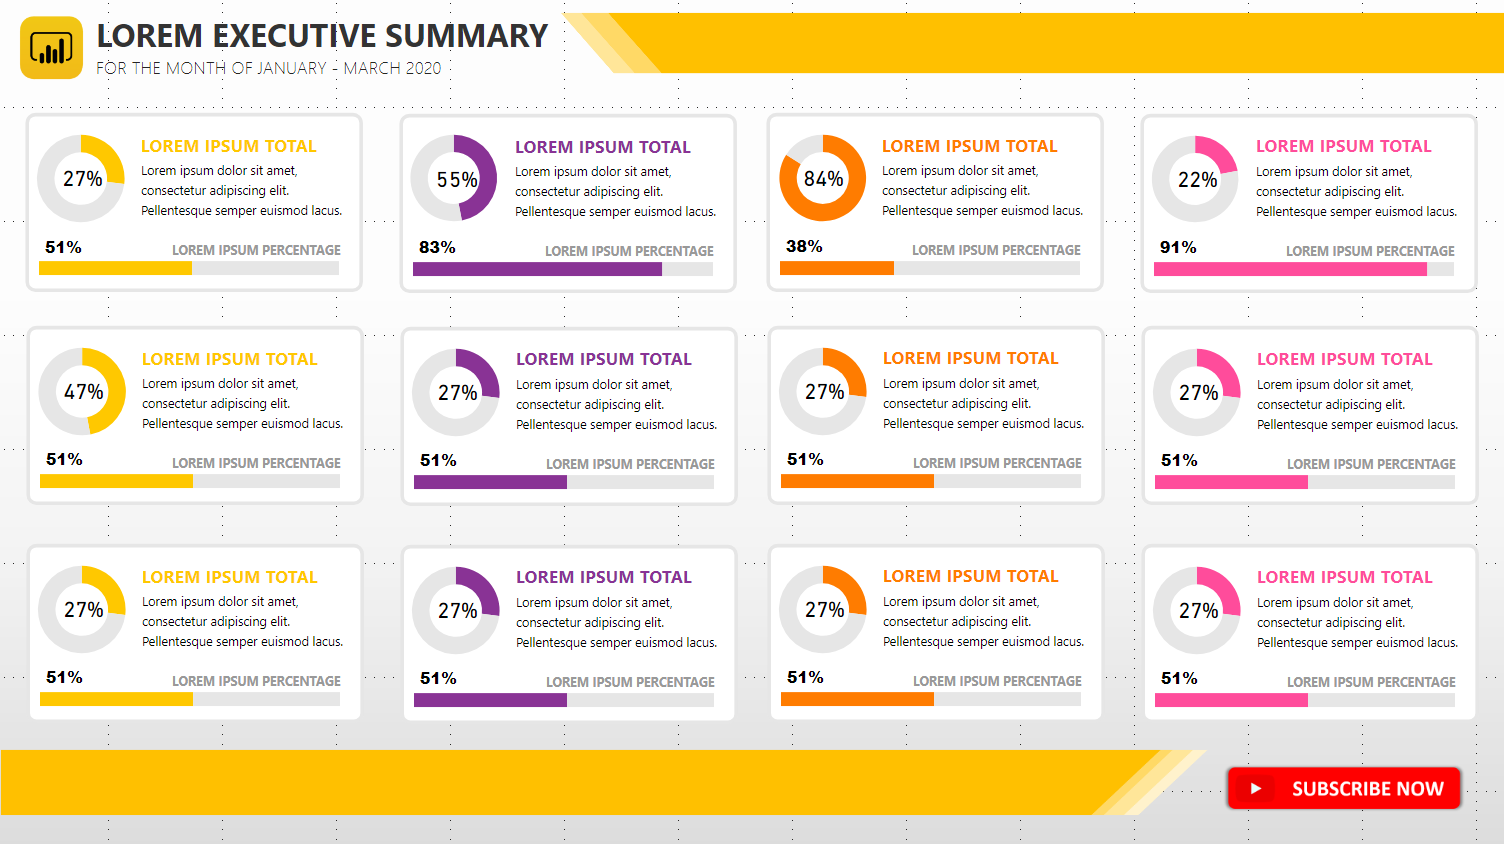

The dashboard page shown, as its layout file describes it:
{"tool":"powerbi","page":{"name":"Executive Summary","canvas":[1280,720],"ordinal":0},"visuals":[{"type":"basicShape","box":[36.1,135.2,317.9,182.7],"z":0},{"type":"image","box":[505.8,29.9,774.2,68.1],"z":1000},{"type":"image","box":[0,629.7,1049.8,67.1],"z":2000},{"type":"image","box":[7.2,19.6,88.8,87.7],"z":3000},{"type":"textbox","box":[93.9,29.9,402.6,49.5],"z":4000},{"type":"textbox","box":[96,64,402.6,34.1],"z":5000},{"type":"donutChart","fields":{"Y":["Sum(RAWDATA.PartOne)","Sum(RAWDATA.PartTwo)"]},"box":[43.4,141.4,114.6,118.7],"z":6000},{"type":"card","fields":{"Values":["Avg(RAWDATA.PartOne)"]},"box":[70.2,175.5,64,51.6],"z":7000},{"type":"textbox","box":[152.8,160,154.8,28.9],"z":8000},{"type":"textbox","box":[151.7,180.6,187.9,70.2],"z":9000},{"type":"barChart","fields":{"Y":["Sum(RAWDATA.PartOne)","Sum(RAWDATA.PartTwo)"]},"box":[58.8,257,272.5,60.9],"z":10000},{"type":"card","fields":{"Values":["Avg(RAWDATA.PartOne)"]},"box":[58.8,242.6,55.7,45.4],"z":11000},{"type":"slicer","fields":{"Values":["RAWDATA.Month"]},"box":[1101.4,41.3,165.2,45.4],"z":12000},{"type":"textbox","box":[148.6,250.8,179.6,28.9],"z":12001},{"type":"basicShape","box":[36.1,367.5,317.9,182.7],"z":12002},{"type":"basicShape","box":[468.6,135.2,317.9,182.7],"z":12003},{"type":"basicShape","box":[468.6,367.5,317.9,182.7],"z":12004},{"type":"basicShape","box":[892.9,135.2,317.9,182.7],"z":12005},{"type":"basicShape","box":[892.9,367.5,317.9,182.7],"z":12006},{"type":"donutChart","fields":{"Y":["Sum(RAWDATA.PartOne)","Sum(RAWDATA.PartTwo)"]},"box":[44.4,374.7,114.6,118.7],"z":12007},{"type":"card","fields":{"Values":["Avg(RAWDATA.PartOne)"]},"box":[70.2,408.8,64,51.6],"z":12008},{"type":"textbox","box":[152.8,394.3,154.8,28.9],"z":12009},{"type":"textbox","box":[152.8,408.8,187.9,70.2],"z":12010},{"type":"textbox","box":[150.7,489.3,179.6,28.9],"z":12011},{"type":"card","fields":{"Values":["Avg(RAWDATA.PartOne)"]},"box":[51.6,479,55.7,45.4],"z":12012},{"type":"barChart","fields":{"Y":["Sum(RAWDATA.PartOne)","Sum(RAWDATA.PartTwo)"]},"box":[55.7,493.4,272.5,60.9],"z":12013},{"type":"donutChart","fields":{"Y":["Sum(RAWDATA.PartOne)","Sum(RAWDATA.PartTwo)"]},"box":[476.9,141.4,114.6,118.7],"z":12014},{"type":"donutChart","fields":{"Y":["Sum(RAWDATA.PartOne)","Sum(RAWDATA.PartTwo)"]},"box":[901.2,141.4,114.6,118.7],"z":12015},{"type":"donutChart","fields":{"Y":["Sum(RAWDATA.PartOne)","Sum(RAWDATA.PartTwo)"]},"box":[476.9,374.7,114.6,118.7],"z":12016},{"type":"donutChart","fields":{"Y":["Sum(RAWDATA.PartOne)","Sum(RAWDATA.PartTwo)"]},"box":[901.2,374.7,114.6,118.7],"z":12017},{"type":"textbox","box":[591.5,151.7,154.8,28.9],"z":12018},{"type":"textbox","box":[1015.7,151.7,154.8,28.9],"z":12019},{"type":"textbox","box":[1015.7,394.3,154.8,28.9],"z":12020},{"type":"textbox","box":[591.5,387.1,154.8,28.9],"z":12021},{"type":"textbox","box":[591.5,175.5,187.9,70.2],"z":12022},{"type":"textbox","box":[1015.7,175.5,187.9,70.2],"z":12023},{"type":"textbox","box":[1015.7,416,187.9,70.2],"z":12024},{"type":"textbox","box":[591.5,408.8,187.9,70.2],"z":12025},{"type":"textbox","box":[589.4,253.9,179.6,28.9],"z":12026},{"type":"textbox","box":[1004.4,259.1,179.6,28.9],"z":12027},{"type":"textbox","box":[1012.6,492.4,179.6,28.9],"z":12028},{"type":"textbox","box":[589.4,490.3,179.6,28.9],"z":12029},{"type":"card","fields":{"Values":["Avg(RAWDATA.PartOne)"]},"box":[491.4,245.7,55.7,45.4],"z":12030},{"type":"card","fields":{"Values":["Avg(RAWDATA.PartOne)"]},"box":[909.4,248.8,55.7,45.4],"z":12031},{"type":"card","fields":{"Values":["Avg(RAWDATA.PartOne)"]},"box":[911.5,482.1,55.7,45.4],"z":12032},{"type":"card","fields":{"Values":["Avg(RAWDATA.PartOne)"]},"box":[479,482.1,55.7,45.4],"z":12033},{"type":"barChart","fields":{"Y":["Sum(RAWDATA.PartOne)","Sum(RAWDATA.PartTwo)"]},"box":[489.3,493.4,272.5,60.9],"z":12034},{"type":"barChart","fields":{"Y":["Sum(RAWDATA.PartOne)","Sum(RAWDATA.PartTwo)"]},"box":[494.5,258.1,272.5,60.9],"z":12035},{"type":"barChart","fields":{"Y":["Sum(RAWDATA.PartOne)","Sum(RAWDATA.PartTwo)"]},"box":[911.5,260.1,272.5,60.9],"z":12036},{"type":"barChart","fields":{"Y":["Sum(RAWDATA.PartOne)","Sum(RAWDATA.PartTwo)"]},"box":[920.8,493.4,272.5,60.9],"z":12037},{"type":"card","fields":{"Values":["Avg(RAWDATA.PartOne)"]},"box":[502.7,174.5,64,51.6],"z":12038},{"type":"card","fields":{"Values":["Avg(RAWDATA.PartOne)"]},"box":[927,174.5,64,51.6],"z":12039},{"type":"card","fields":{"Values":["Avg(RAWDATA.PartOne)"]},"box":[505.8,407.7,64,51.6],"z":12040},{"type":"card","fields":{"Values":["Avg(RAWDATA.PartOne)"]},"box":[927,408.8,64,51.6],"z":12041},{"type":"image","box":[1038.5,618.3,228.1,102.2],"z":12042}]}

Visuals, with their boxes in screenshot pixels (x1, y1, x2, y2), scaled from the page's 1280x720 canvas onto the 1504x844 screenshot:
basicShape: crop(42, 158, 416, 373)
image: crop(594, 35, 1503, 115)
image: crop(0, 738, 1234, 817)
image: crop(8, 23, 113, 126)
textbox: crop(110, 35, 583, 93)
textbox: crop(113, 75, 586, 115)
donutChart - Sum(RAWDATA.PartOne) x Sum(RAWDATA.PartTwo): crop(51, 166, 186, 305)
card - Avg(RAWDATA.PartOne): crop(82, 206, 158, 266)
textbox: crop(180, 188, 361, 221)
textbox: crop(178, 212, 399, 294)
barChart - Sum(RAWDATA.PartOne) x Sum(RAWDATA.PartTwo): crop(69, 301, 389, 373)
card - Avg(RAWDATA.PartOne): crop(69, 284, 135, 338)
slicer - RAWDATA.Month: crop(1294, 48, 1488, 102)
textbox: crop(175, 294, 386, 328)
basicShape: crop(42, 431, 416, 645)
basicShape: crop(551, 158, 924, 373)
basicShape: crop(551, 431, 924, 645)
basicShape: crop(1049, 158, 1423, 373)
basicShape: crop(1049, 431, 1423, 645)
donutChart - Sum(RAWDATA.PartOne) x Sum(RAWDATA.PartTwo): crop(52, 439, 187, 578)
card - Avg(RAWDATA.PartOne): crop(82, 479, 158, 540)
textbox: crop(180, 462, 361, 496)
textbox: crop(180, 479, 400, 561)
textbox: crop(177, 574, 388, 607)
card - Avg(RAWDATA.PartOne): crop(61, 561, 126, 615)
barChart - Sum(RAWDATA.PartOne) x Sum(RAWDATA.PartTwo): crop(65, 578, 386, 650)
donutChart - Sum(RAWDATA.PartOne) x Sum(RAWDATA.PartTwo): crop(560, 166, 695, 305)
donutChart - Sum(RAWDATA.PartOne) x Sum(RAWDATA.PartTwo): crop(1059, 166, 1194, 305)
donutChart - Sum(RAWDATA.PartOne) x Sum(RAWDATA.PartTwo): crop(560, 439, 695, 578)
donutChart - Sum(RAWDATA.PartOne) x Sum(RAWDATA.PartTwo): crop(1059, 439, 1194, 578)
textbox: crop(695, 178, 877, 212)
textbox: crop(1193, 178, 1375, 212)
textbox: crop(1193, 462, 1375, 496)
textbox: crop(695, 454, 877, 488)
textbox: crop(695, 206, 916, 288)
textbox: crop(1193, 206, 1414, 288)
textbox: crop(1193, 488, 1414, 570)
textbox: crop(695, 479, 916, 561)
textbox: crop(693, 298, 904, 332)
textbox: crop(1180, 304, 1391, 338)
textbox: crop(1190, 577, 1401, 611)
textbox: crop(693, 575, 904, 609)
card - Avg(RAWDATA.PartOne): crop(577, 288, 643, 341)
card - Avg(RAWDATA.PartOne): crop(1069, 292, 1134, 345)
card - Avg(RAWDATA.PartOne): crop(1071, 565, 1136, 618)
card - Avg(RAWDATA.PartOne): crop(563, 565, 628, 618)
barChart - Sum(RAWDATA.PartOne) x Sum(RAWDATA.PartTwo): crop(575, 578, 895, 650)
barChart - Sum(RAWDATA.PartOne) x Sum(RAWDATA.PartTwo): crop(581, 303, 901, 374)
barChart - Sum(RAWDATA.PartOne) x Sum(RAWDATA.PartTwo): crop(1071, 305, 1391, 376)
barChart - Sum(RAWDATA.PartOne) x Sum(RAWDATA.PartTwo): crop(1082, 578, 1402, 650)
card - Avg(RAWDATA.PartOne): crop(591, 205, 666, 265)
card - Avg(RAWDATA.PartOne): crop(1089, 205, 1164, 265)
card - Avg(RAWDATA.PartOne): crop(594, 478, 670, 538)
card - Avg(RAWDATA.PartOne): crop(1089, 479, 1164, 540)
image: crop(1220, 725, 1488, 843)
